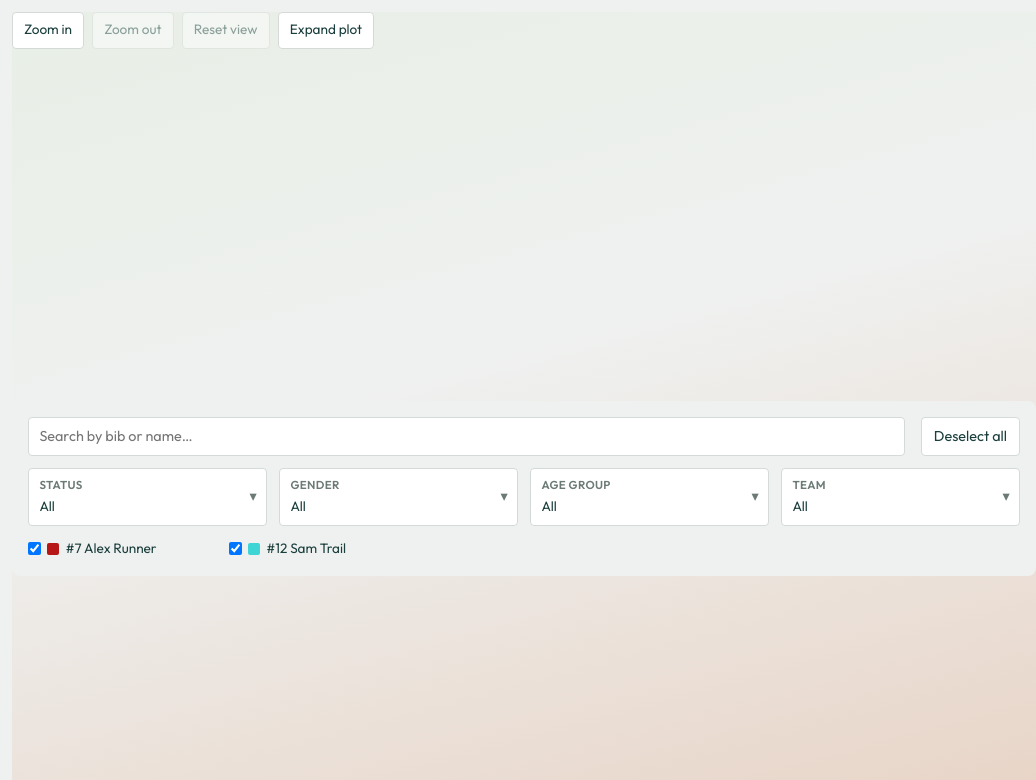
Test case: RaceFlowChart.vue › filters legend items by team
Click the button with class "filter-dropdown-trigger" showing "Team All".
click(900, 497)  # box x1=781 y1=468 x2=1020 y2=526
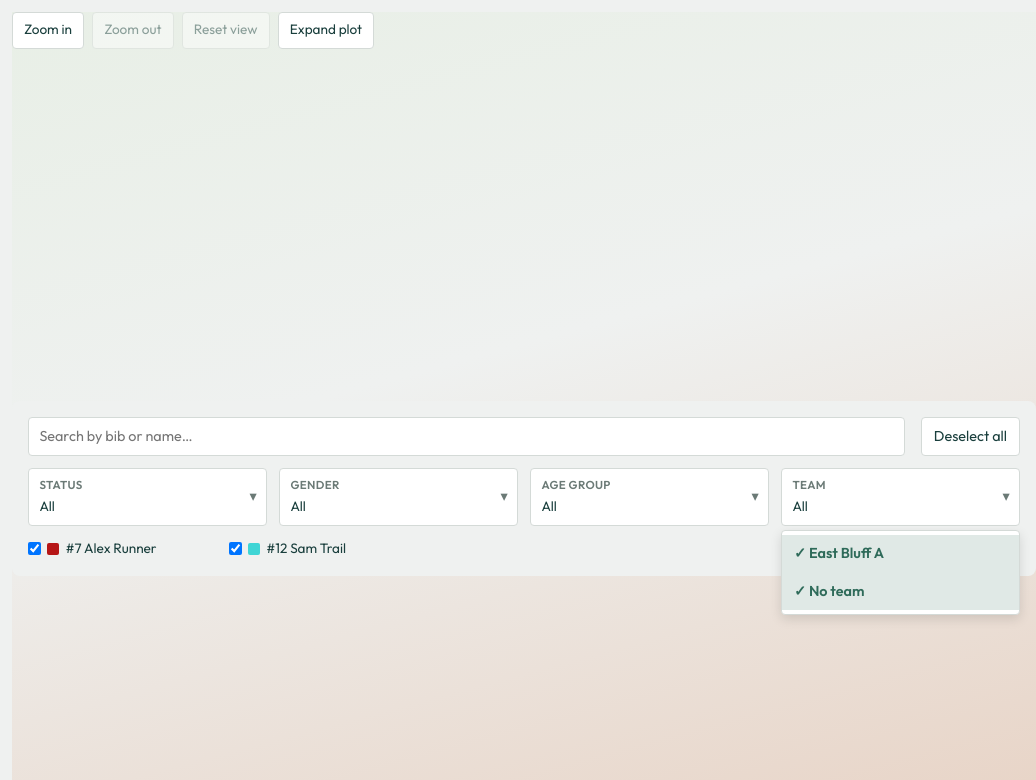
Click the button with class "filter-dropdown-option" showing "No team".
click(900, 591)  # box x1=782 y1=572 x2=1019 y2=610
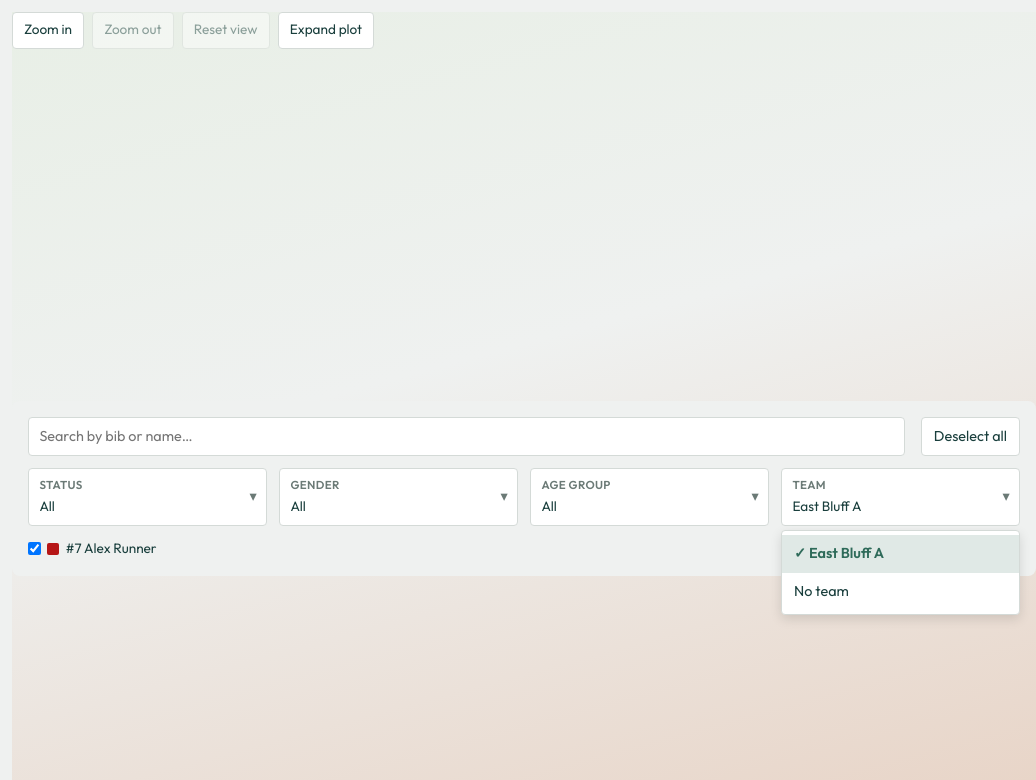
Expected: the text "#7 Alex" is shown, x1=66 y1=539 x2=157 y2=557
Result: the text "#12 Sam" is gone
